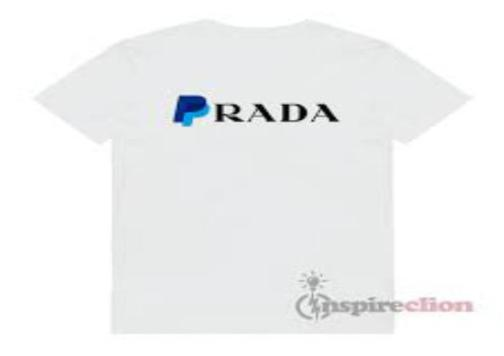PRADA: (206, 98, 342, 129)
